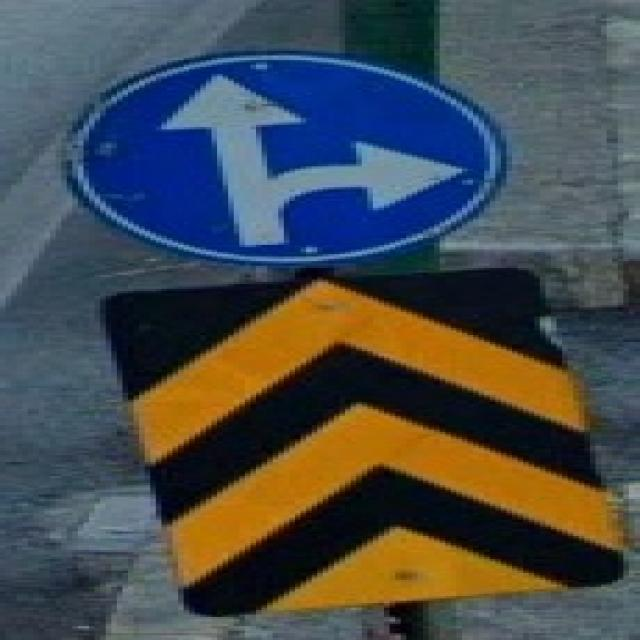Straight or Right: (76, 56, 483, 253)
